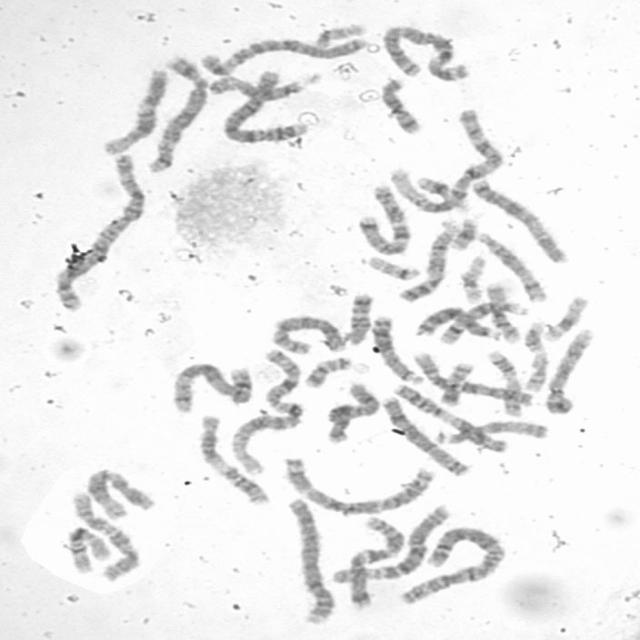A1: (384, 106, 506, 212), (233, 346, 302, 478)
A2: (49, 152, 147, 312), (395, 524, 508, 607)
A3: (279, 453, 439, 516), (380, 24, 473, 84)
B4: (225, 66, 307, 152), (284, 495, 336, 627)
B5: (143, 52, 210, 175), (166, 361, 254, 414)
C10: (70, 492, 146, 580), (414, 352, 534, 407)
C11: (392, 382, 505, 456), (194, 411, 271, 506)
C12: (100, 66, 171, 157), (86, 468, 159, 520)
C6: (326, 503, 454, 584), (195, 35, 370, 74)
C7: (343, 513, 410, 613), (354, 182, 412, 255)
C8: (380, 392, 471, 478), (271, 314, 350, 356)
C9: (396, 218, 462, 304), (541, 329, 599, 414)
D13: (369, 314, 424, 385), (410, 304, 508, 340)
D14: (475, 230, 549, 303), (435, 298, 529, 346)
D15: (204, 70, 326, 100), (427, 419, 554, 446)
E16: (482, 281, 520, 344), (67, 524, 111, 576)
E17: (484, 348, 524, 418), (520, 320, 551, 392)
E18: (380, 76, 426, 134), (342, 290, 372, 346)
F19: (539, 294, 590, 343), (457, 253, 488, 304)
F20: (439, 360, 478, 408), (301, 355, 354, 390)
G21: (418, 175, 466, 209), (449, 218, 480, 252)
G22: (364, 254, 422, 282), (312, 24, 368, 51)
X: (469, 180, 575, 272), (322, 379, 380, 446)
